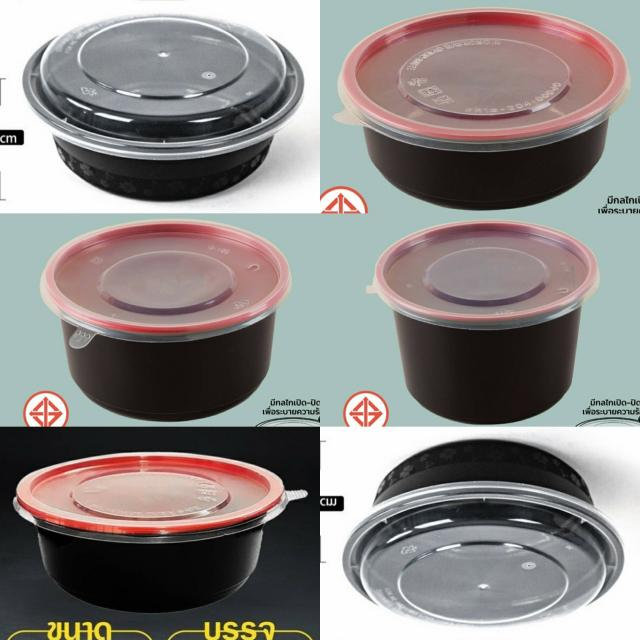plastik: (335, 8, 629, 210), (23, 15, 304, 200), (343, 440, 623, 624), (40, 220, 291, 421), (367, 221, 599, 424), (14, 452, 306, 612)
